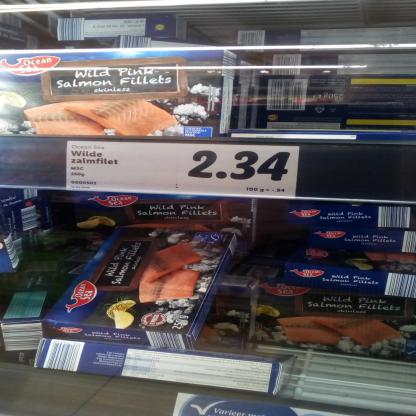prtg: (68, 141, 301, 200)
